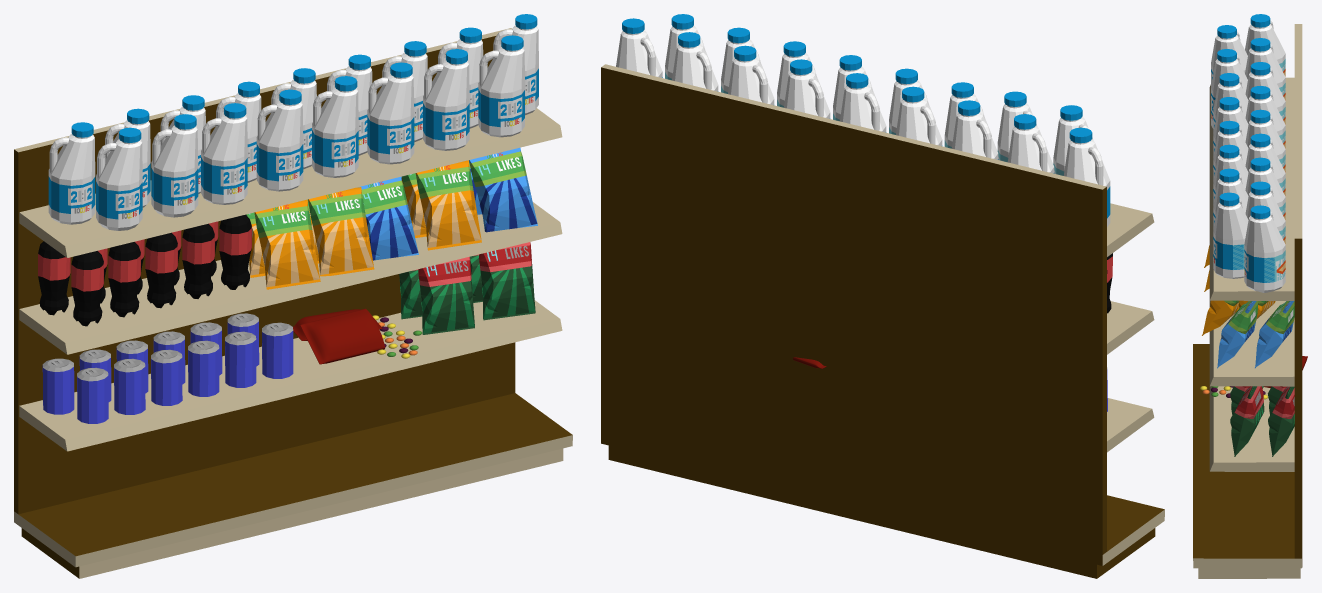
The model's file is shelvesWithProducts.fbx.
The picture shows the model from 3 angles, left to right: view 1: azimuth 30°, elevation 25°; view 2: azimuth 150°, elevation 25°; view 3: azimuth 270°, elevation 25°; orthographic projection. The views are drawn at different scales.
Parts seen in each view (by area): view 1: group478861069.002; view 2: group478861069.002; view 3: group478861069.002.
Part boxes in pixels (<box>): group478861069.002: <box>14,14,572,578</box>; group478861069.002: <box>601,14,1164,578</box>; group478861069.002: <box>1193,14,1307,578</box>.
Size of the model in its own units: 2709 by 2163 by 609.
